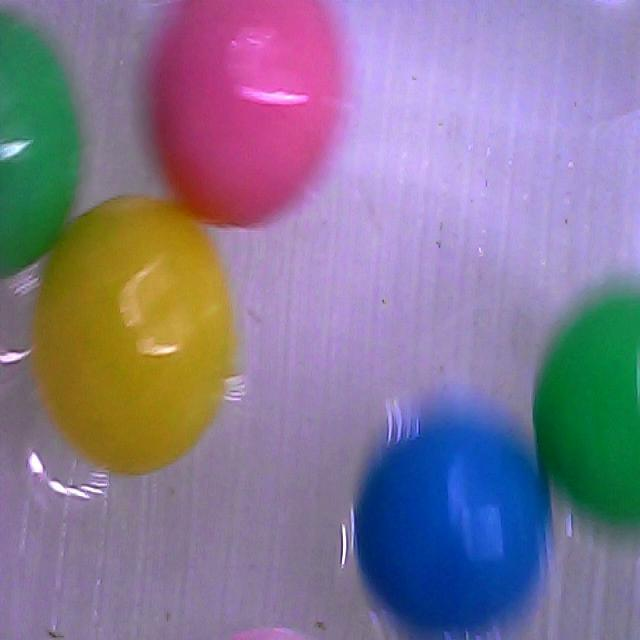beads: (26, 191, 244, 480), (351, 414, 551, 633), (152, 1, 347, 225), (535, 292, 640, 522), (0, 12, 79, 277)
